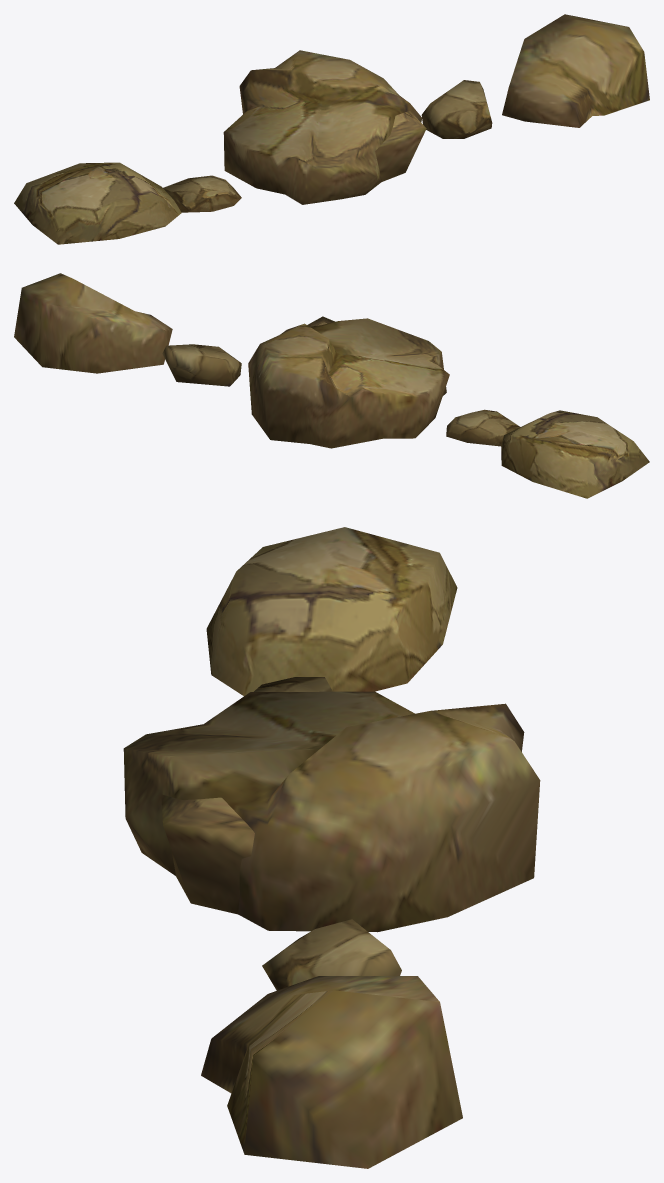
The model's file is 2_YiZhan_ZaWu_ShiKuai_01.FBX.
3 renders of one model, top to bottom at view 1: azimuth 30°, elevation 25°; view 2: azimuth 150°, elevation 25°; view 3: azimuth 270°, elevation 25°, orthographic. The views are drawn at different scales.
Parts seen in each view (by area): view 1: 2_YiZhan_ZaWu_ShiKuai_02, 2_YiZhan_ZaWu_ShiKuai_04, 2_YiZhan_ZaWu_ShiKuai_01, 2_YiZhan_ZaWu_ShiKuai_03; view 2: 2_YiZhan_ZaWu_ShiKuai_02, 2_YiZhan_ZaWu_ShiKuai_04, 2_YiZhan_ZaWu_ShiKuai_01, 2_YiZhan_ZaWu_ShiKuai_03; view 3: 2_YiZhan_ZaWu_ShiKuai_02, 2_YiZhan_ZaWu_ShiKuai_04, 2_YiZhan_ZaWu_ShiKuai_01, 2_YiZhan_ZaWu_ShiKuai_03.
Boxes of the visible parts, bbox=[...] form: 2_YiZhan_ZaWu_ShiKuai_02: bbox=[223, 50, 426, 204]; 2_YiZhan_ZaWu_ShiKuai_04: bbox=[502, 14, 649, 127]; 2_YiZhan_ZaWu_ShiKuai_01: bbox=[14, 162, 241, 244]; 2_YiZhan_ZaWu_ShiKuai_03: bbox=[421, 80, 492, 138]; 2_YiZhan_ZaWu_ShiKuai_02: bbox=[248, 316, 449, 448]; 2_YiZhan_ZaWu_ShiKuai_04: bbox=[14, 273, 172, 373]; 2_YiZhan_ZaWu_ShiKuai_01: bbox=[446, 409, 649, 498]; 2_YiZhan_ZaWu_ShiKuai_03: bbox=[162, 344, 241, 386]; 2_YiZhan_ZaWu_ShiKuai_02: bbox=[123, 691, 540, 932]; 2_YiZhan_ZaWu_ShiKuai_04: bbox=[201, 976, 462, 1168]; 2_YiZhan_ZaWu_ShiKuai_01: bbox=[206, 527, 457, 695]; 2_YiZhan_ZaWu_ShiKuai_03: bbox=[262, 919, 401, 990].
Size of the model in its own units: 684 by 77.62 by 204.
1 material, 1 textured.
